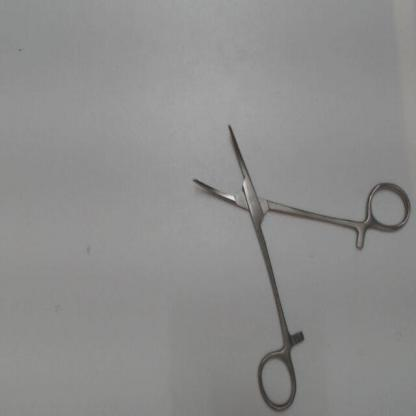Crile Artery Forceps: (186, 112, 415, 414)
